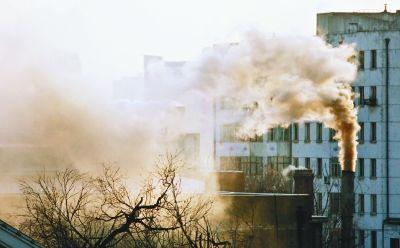smoke: (11, 80, 192, 181), (223, 36, 367, 133)
